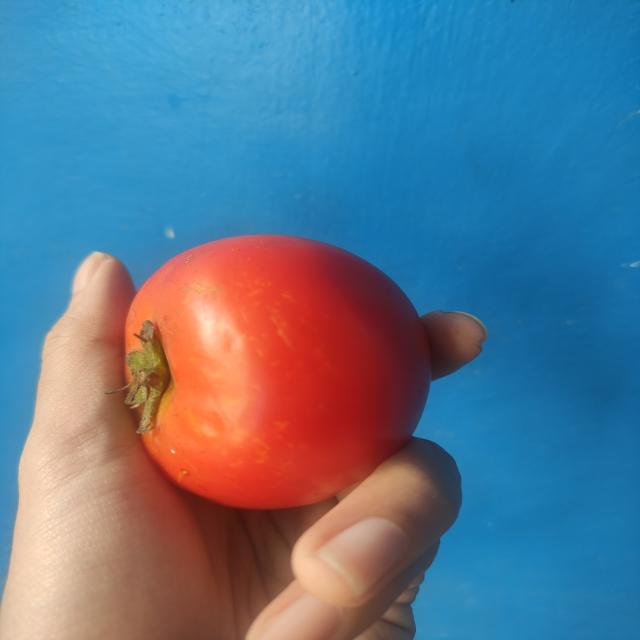ripe tomato: (117, 220, 436, 530)
